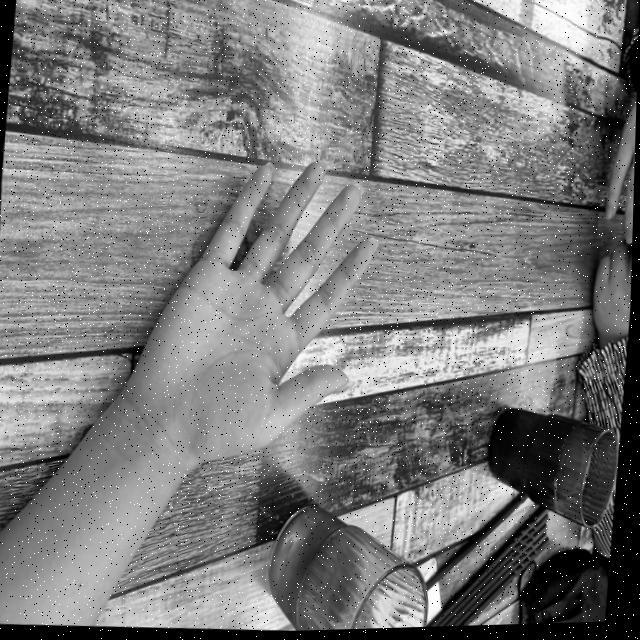no-gloves: (107, 118, 396, 522)
